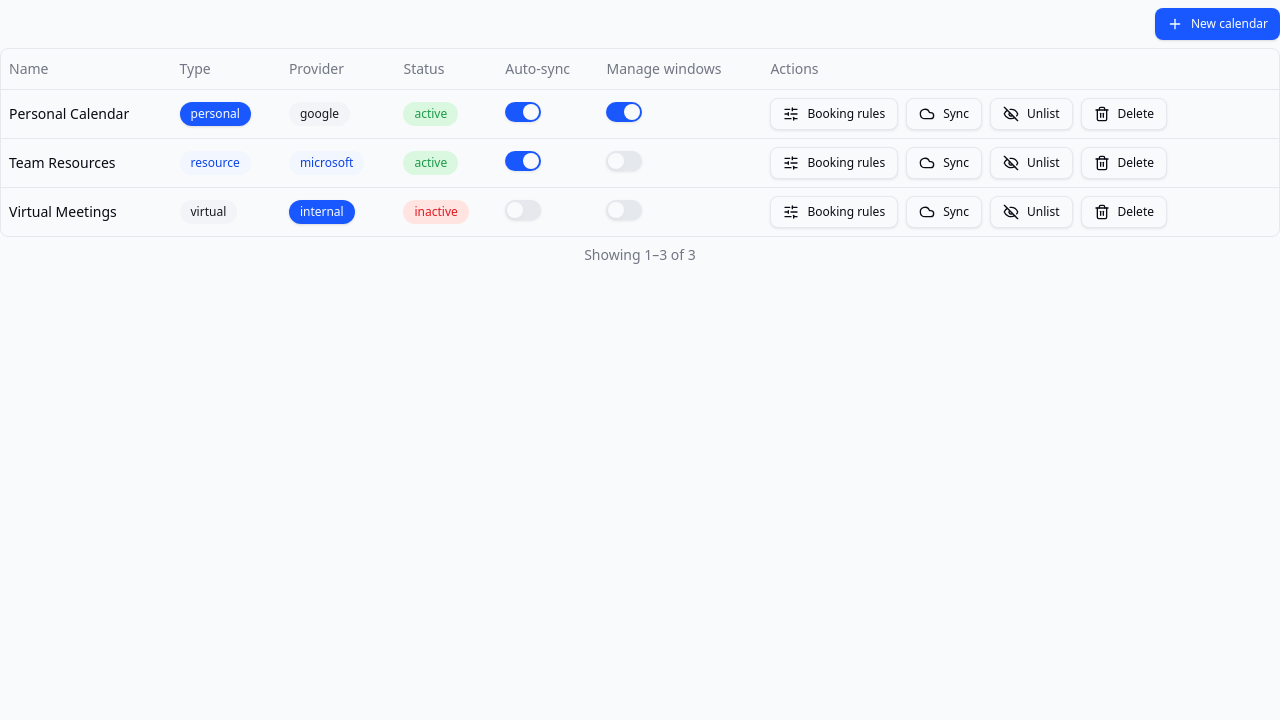
Test: CalendarsTable › delete calendar action › disables delete button while mutation is in progress
Check: the text "Personal Calendar" is shown, box [9,104,129,122]
Click the first delete button.
Click the button "Delete" in the row of "Personal Calendar".
click(1124, 114)  # box [1080,98,1167,130]
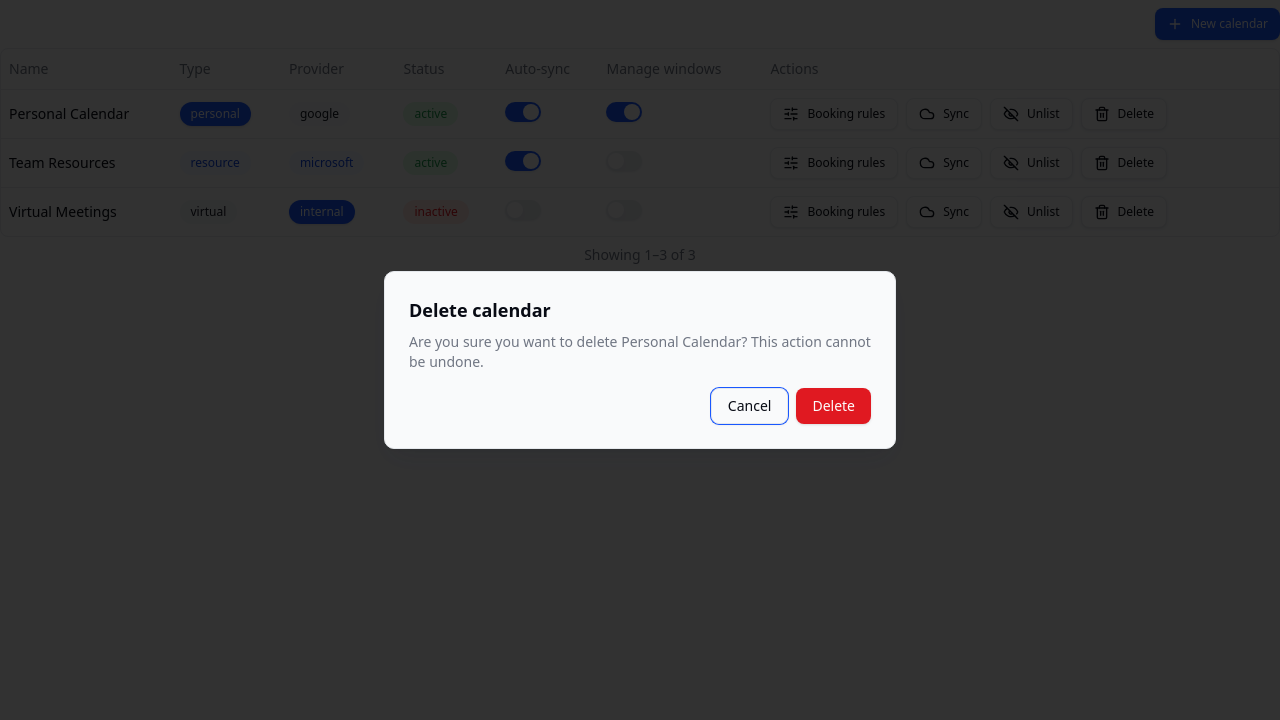
Check: the dialog is shown, box [384,271,896,449]
Check: the button "Delete" is shown
Click the button "Delete".
click(834, 406)  # box [796,388,871,424]
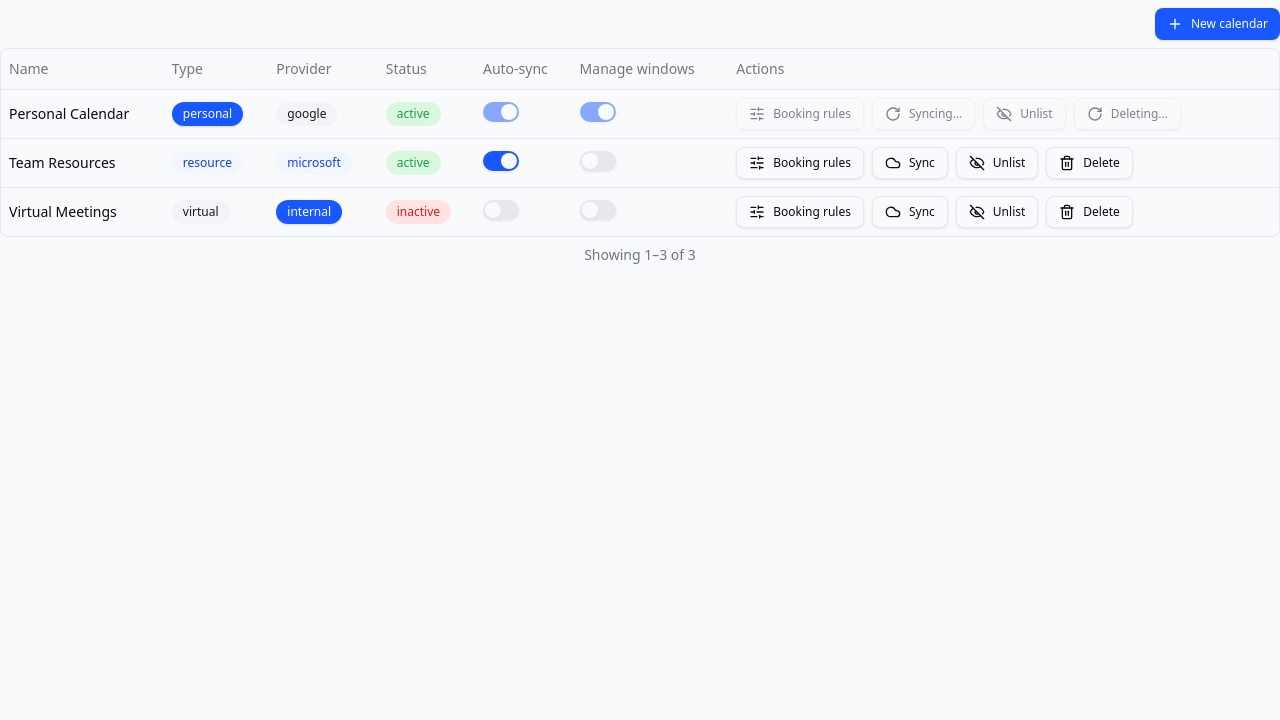
Check: the button "Deleting…" is shown, box [1074,98,1181,130]
